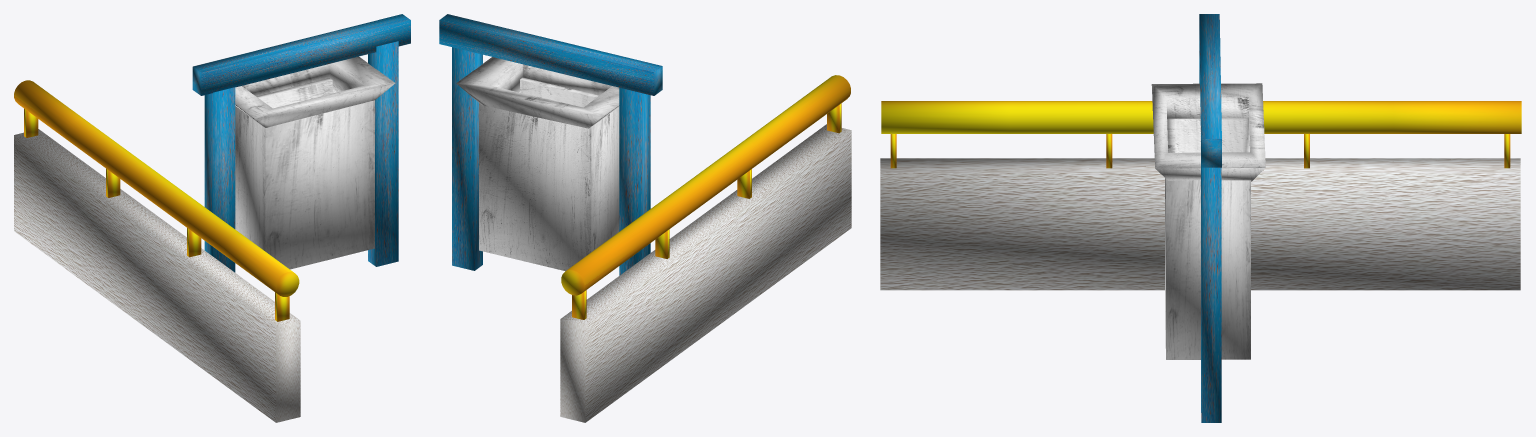
File: boteBasura3.obj
The picture shows the model from 3 angles, left to right: view 1: azimuth 30°, elevation 25°; view 2: azimuth 150°, elevation 25°; view 3: azimuth 270°, elevation 25°; orthographic projection. The views are drawn at different scales.
Parts seen in each view (by area): view 1: Box020, Box002, Cylinder002, Box005, Pyramid001, Box003, Box004, Box024; view 2: Box020, Box002, Cylinder002, Box005, Pyramid001, Box003, Box004; view 3: Box020, Cylinder002, Box002, Pyramid001, Box003, Box005.
Part boxes in pixels (left/top/right/bottom): Box020: left=14, top=129, right=300, bottom=422; Box002: left=235, top=78, right=374, bottom=269; Cylinder002: left=14, top=80, right=299, bottom=296; Box005: left=192, top=14, right=410, bottom=95; Pyramid001: left=235, top=56, right=395, bottom=127; Box003: left=368, top=41, right=398, bottom=266; Box004: left=204, top=87, right=235, bottom=272; Box024: left=275, top=292, right=289, bottom=321; Box020: left=560, top=124, right=851, bottom=422; Box002: left=479, top=77, right=619, bottom=271; Cylinder002: left=561, top=75, right=850, bottom=295; Box005: left=439, top=14, right=662, bottom=95; Pyramid001: left=456, top=57, right=619, bottom=128; Box003: left=452, top=47, right=482, bottom=270; Box004: left=619, top=87, right=650, bottom=275; Box020: left=880, top=158, right=1520, bottom=290; Cylinder002: left=881, top=101, right=1521, bottom=133; Box002: left=1165, top=118, right=1250, bottom=359; Pyramid001: left=1151, top=83, right=1265, bottom=181; Box003: left=1201, top=140, right=1221, bottom=422; Box005: left=1199, top=14, right=1221, bottom=167.
Bounding box in the file's own units: 37.97 × 33.23 × 64.81.
Materials: 4 (4 with a texture image).
